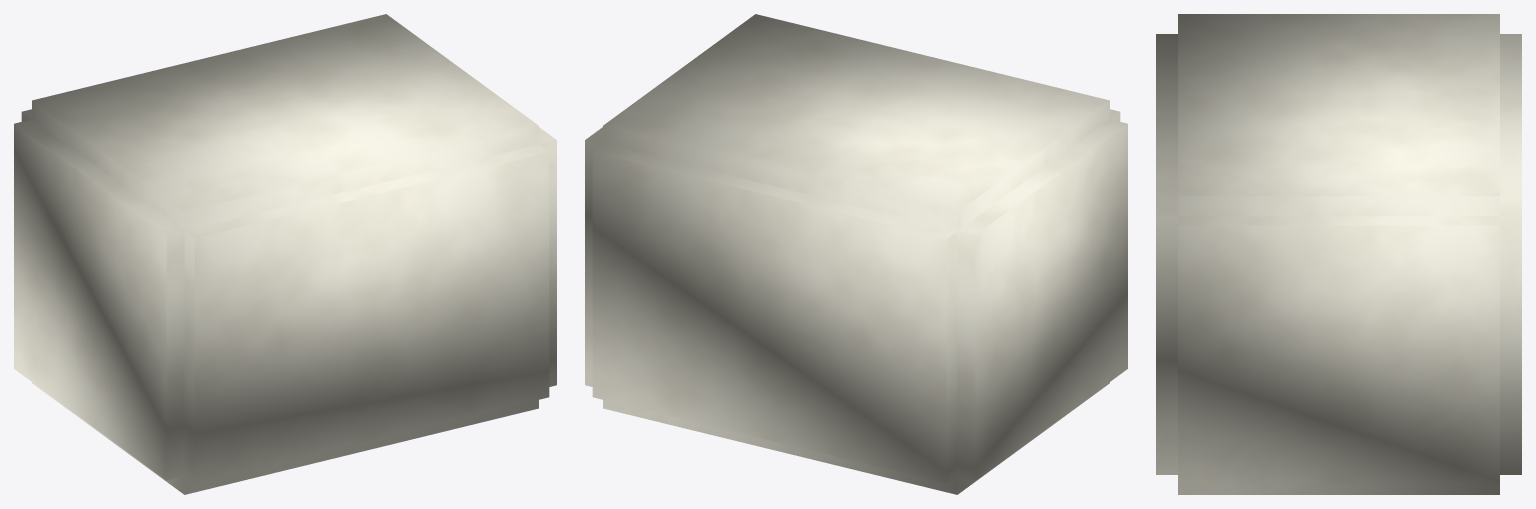
File: Tofu_Portion.fbx
3 renders of one model, left to right at view 1: azimuth 30°, elevation 25°; view 2: azimuth 150°, elevation 25°; view 3: azimuth 270°, elevation 25°, orthographic. The views are drawn at different scales.
Visible parts, largest first — view 1: Tofu_Portion; view 2: Tofu_Portion; view 3: Tofu_Portion.
Boxes of the visible parts, box(x1,y1,x2,y2) form: Tofu_Portion: box(14, 14, 556, 494); Tofu_Portion: box(585, 14, 1127, 494); Tofu_Portion: box(1156, 14, 1521, 494).
Size of the model in its own units: 0.065 by 0.045 by 0.05.
1 material, 1 textured.
